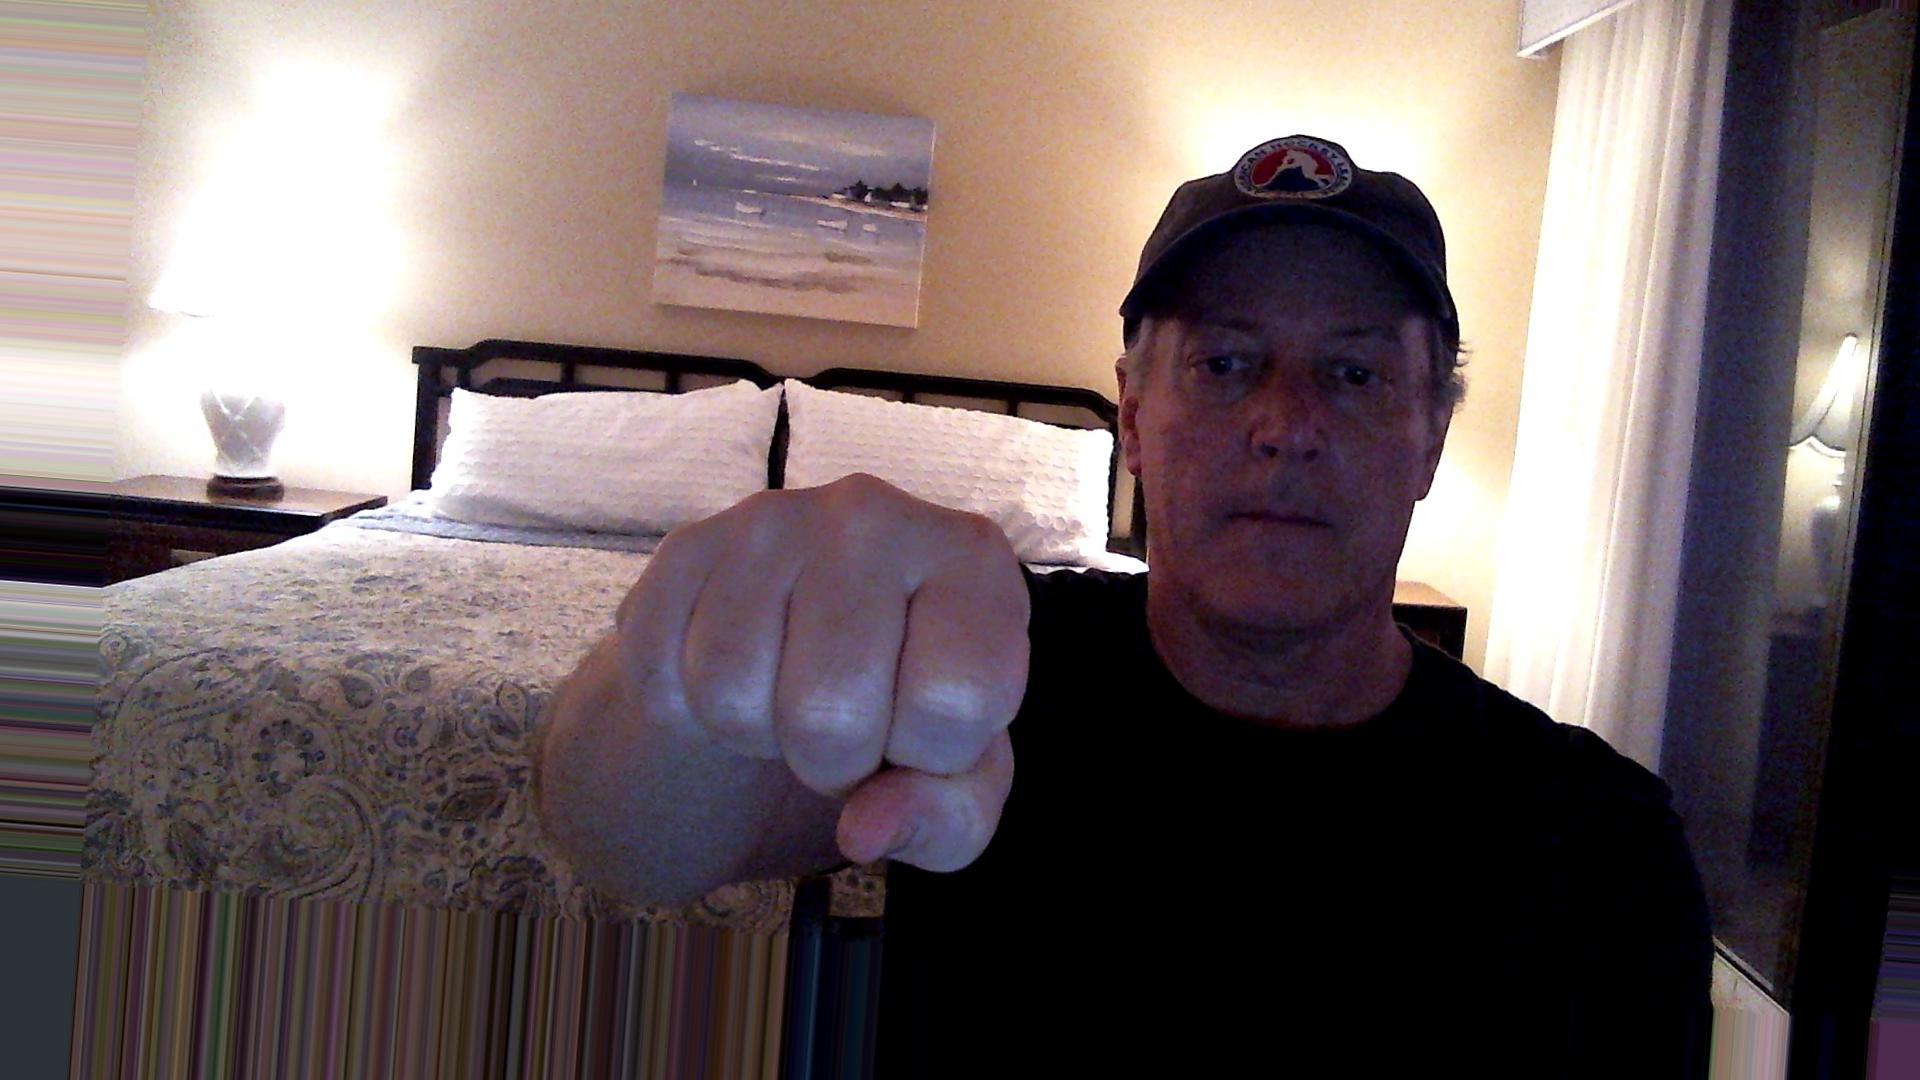Yes: (599, 462, 1048, 898)
